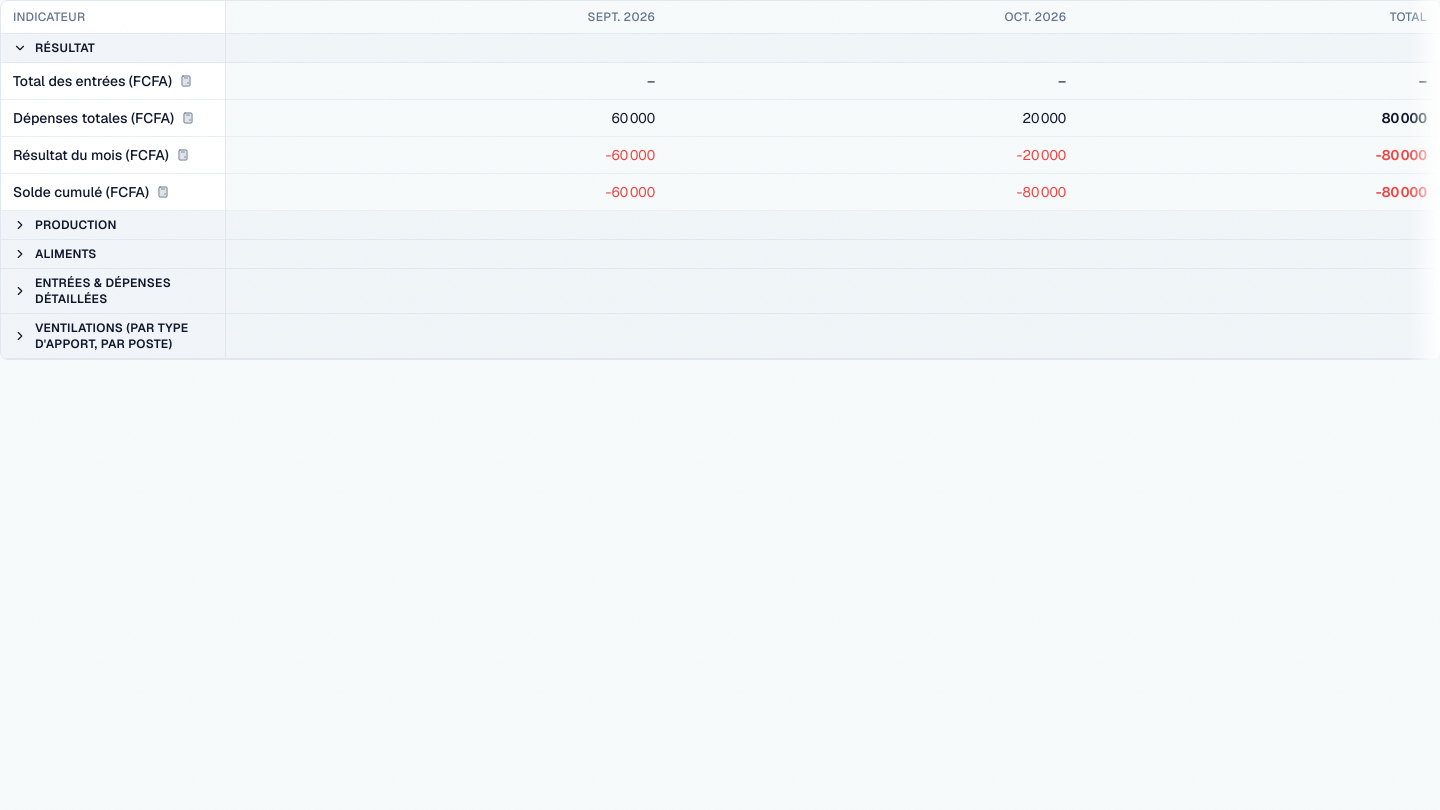
Test: PrevisionsMensuellesTab — sections repliables (story PR2q.3) › ouvrir la section Entrées & dépenses détaillées révèle ses lignes, y compris l'explication du coût alevins
Expected: the table is shown, [1,1,1439,359]
Click the button "Entrées & dépenses détaillées" at (113,291), box [13,275,212,307]
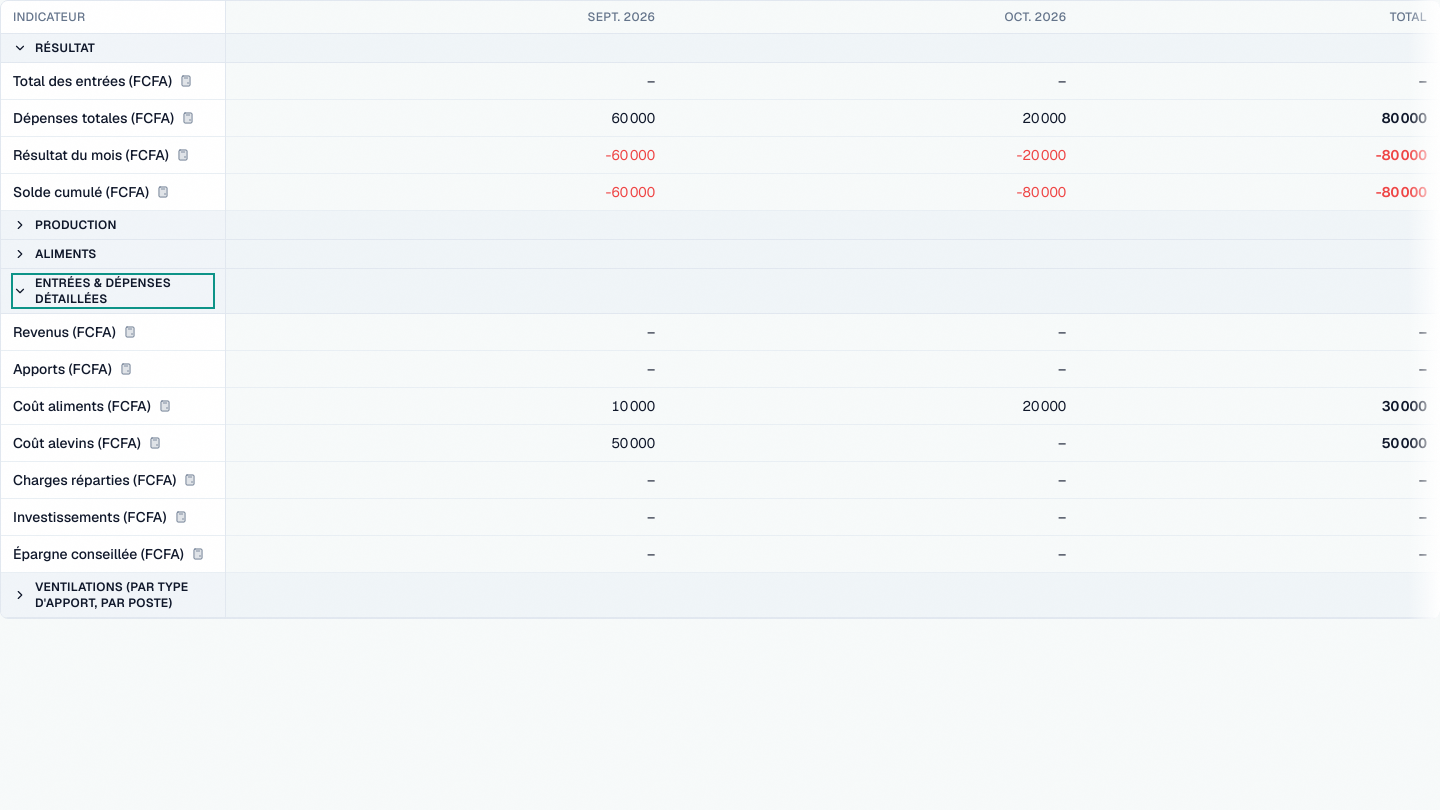
Result: the text "Coût alevins (FCFA)" is shown at [13,433,141,453]
Click the button named "Expliquer la ligne Coût alevins (FCFA)" at (155,443), box [145,433,165,453]
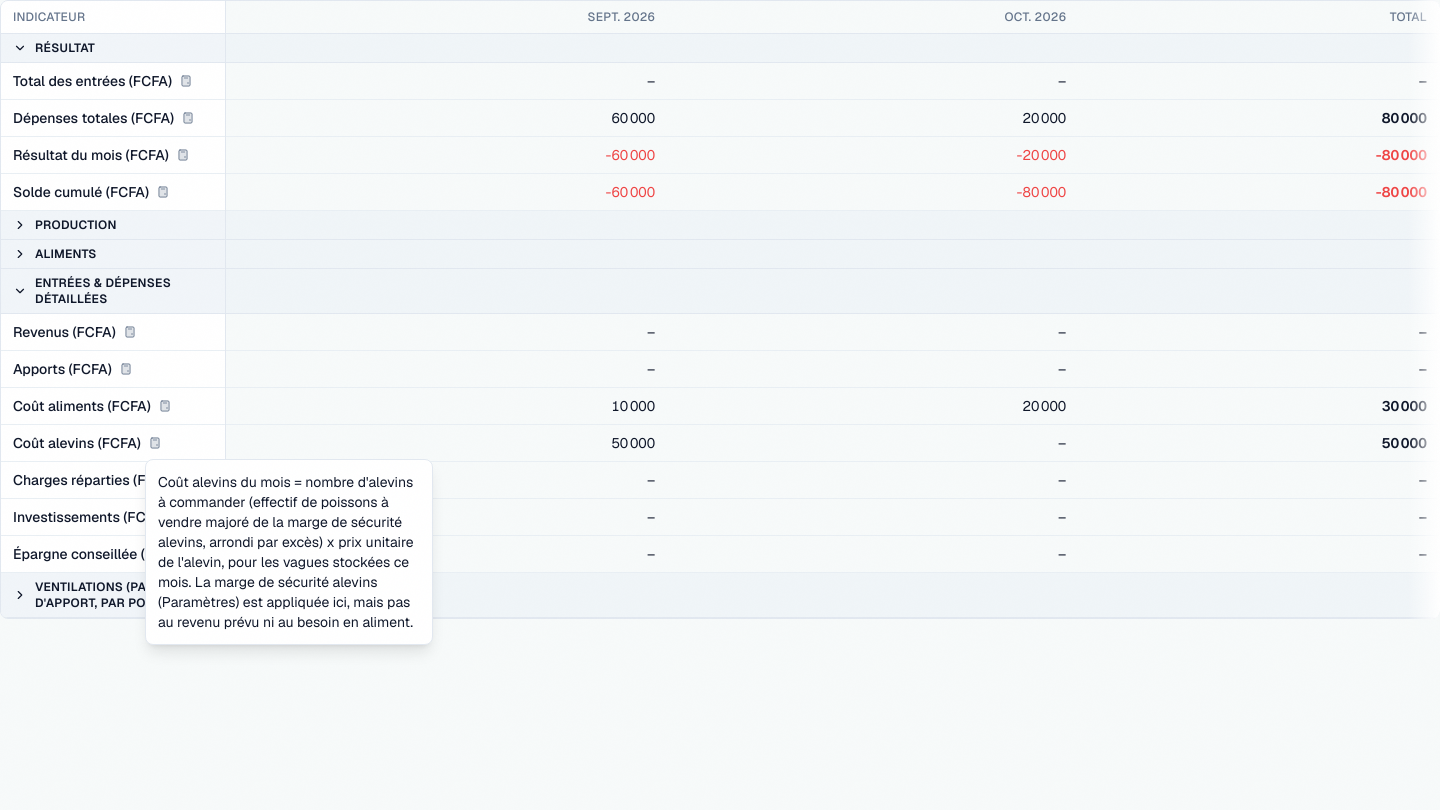
Result: the text "pas au revenu prévu ni au besoin en aliment" is shown at [158,473,414,631]
